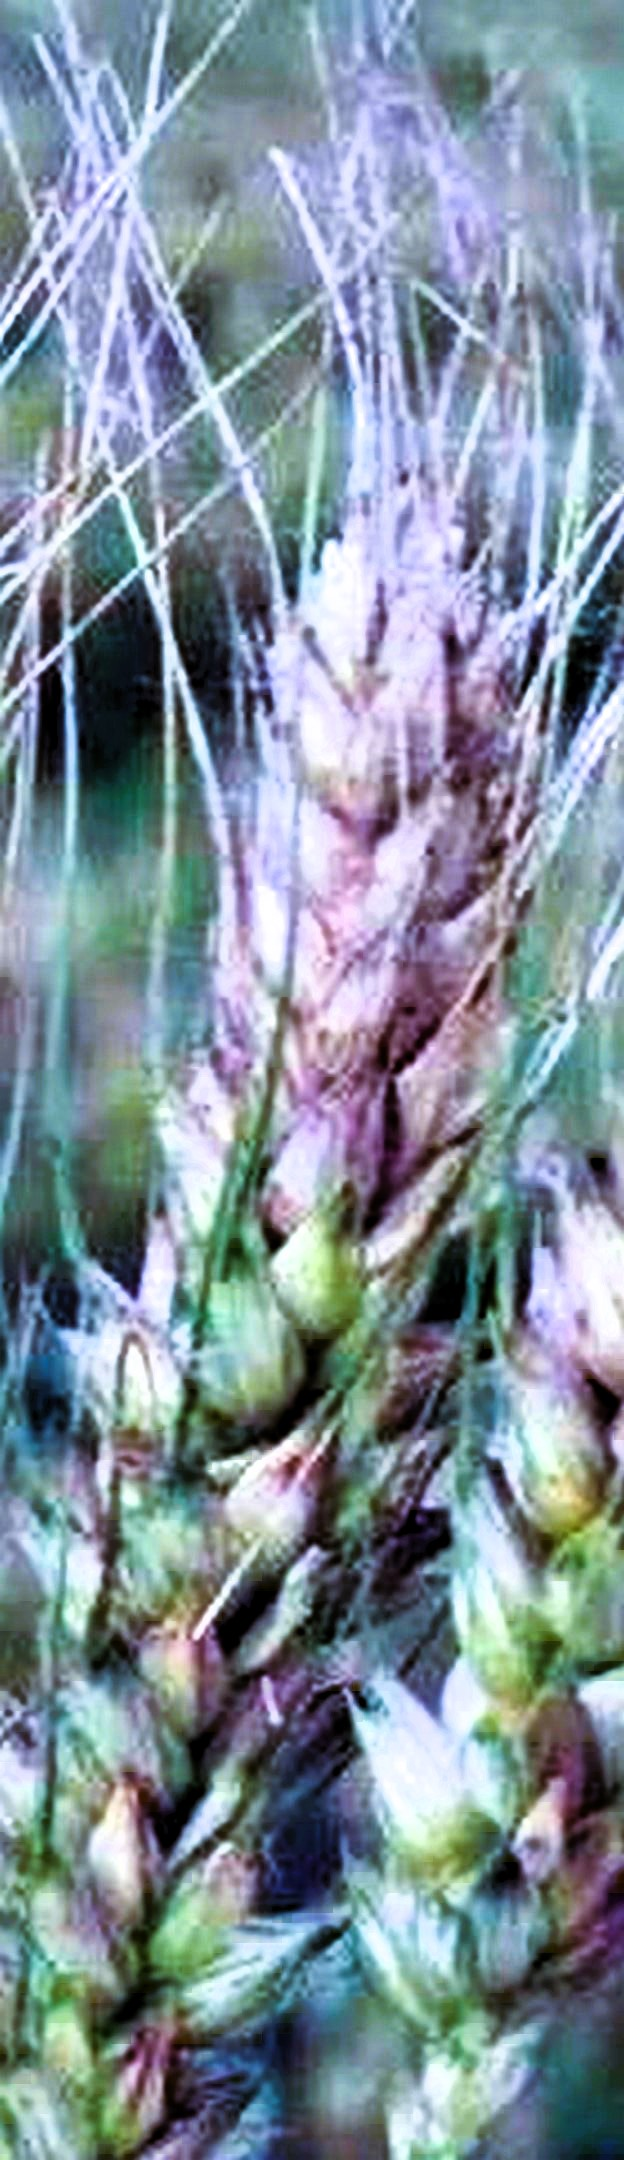Wheat scab: (92, 495, 568, 1656)
